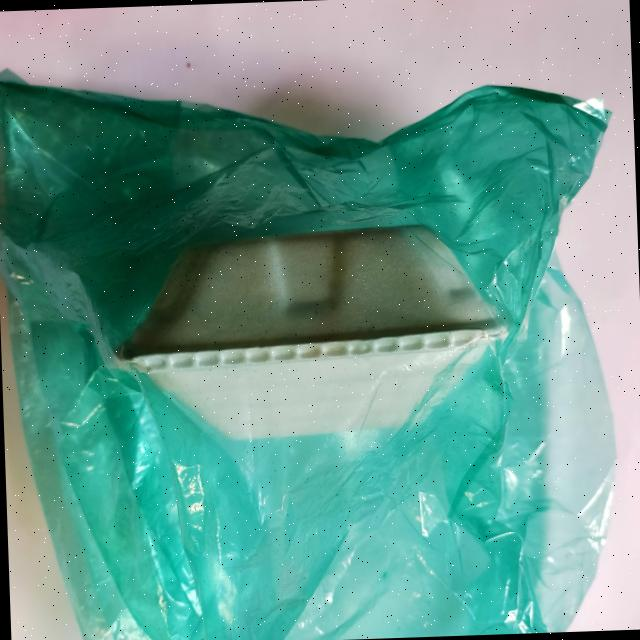styrofoam: (0, 45, 629, 640)
